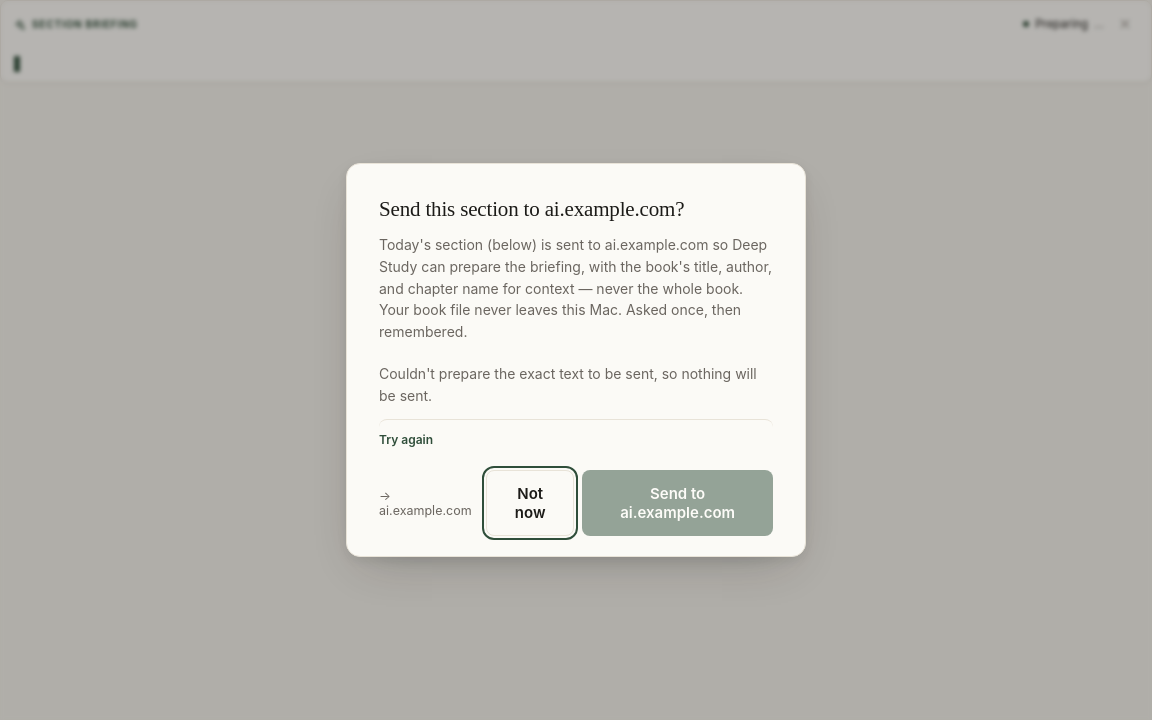
Test: SectionBriefingCard — first-cloud consent sheet › a FAILED preview keeps Send disabled and Retry re-fetches (fail closed)
Expected: the dialog is shown, [346,163,806,557]
Expected: the text "Couldn't prepare the exact text to be sent, so nothing will be sent. Try again" is shown, [379,363,773,450]
Click the button "Try again" at (406, 440), box [379,419,773,450]
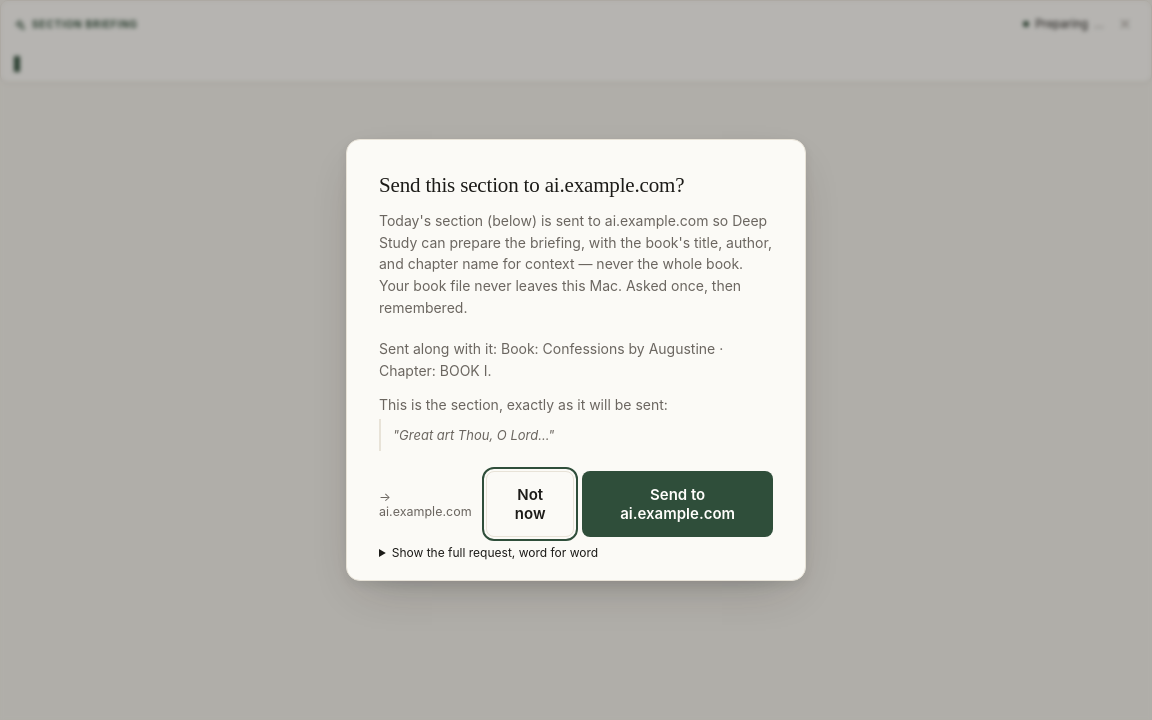
Result: the button "Send to ai.example.com" is enabled at [582,471,773,537]
